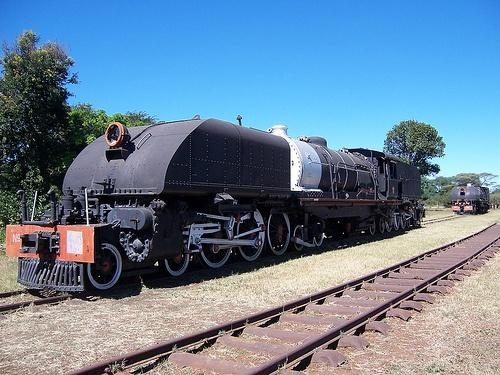train: (7, 116, 426, 298), (451, 183, 492, 216)
